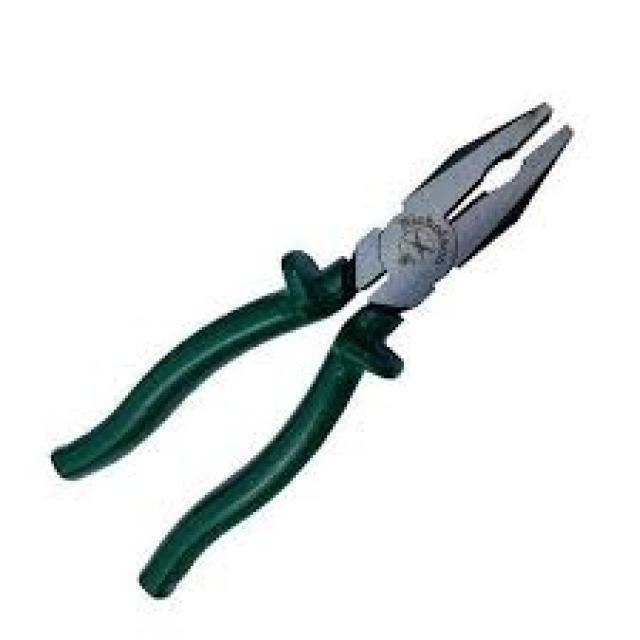pliers: (43, 94, 584, 602)
